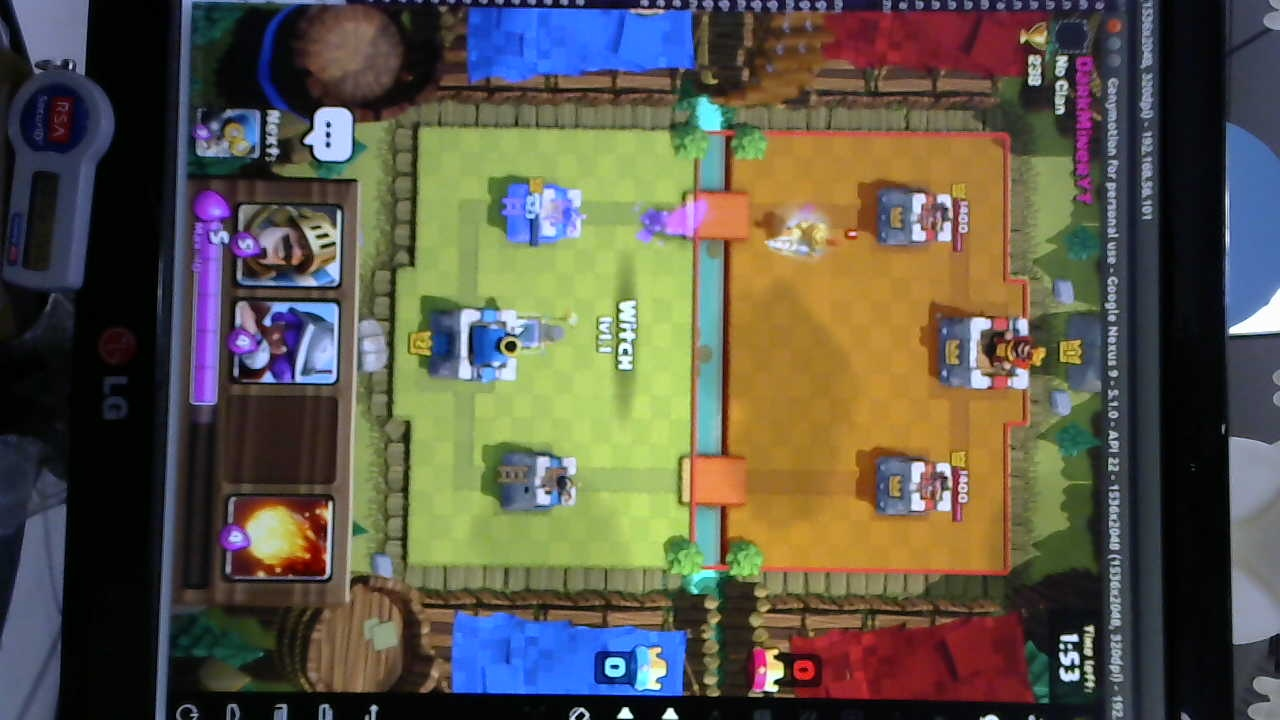arena: (493, 449, 580, 516), (497, 180, 584, 243)
earena: (872, 453, 955, 519), (869, 187, 955, 249)
eking: (933, 316, 1042, 391)
king: (440, 301, 528, 384)
prince: (762, 216, 840, 260)
